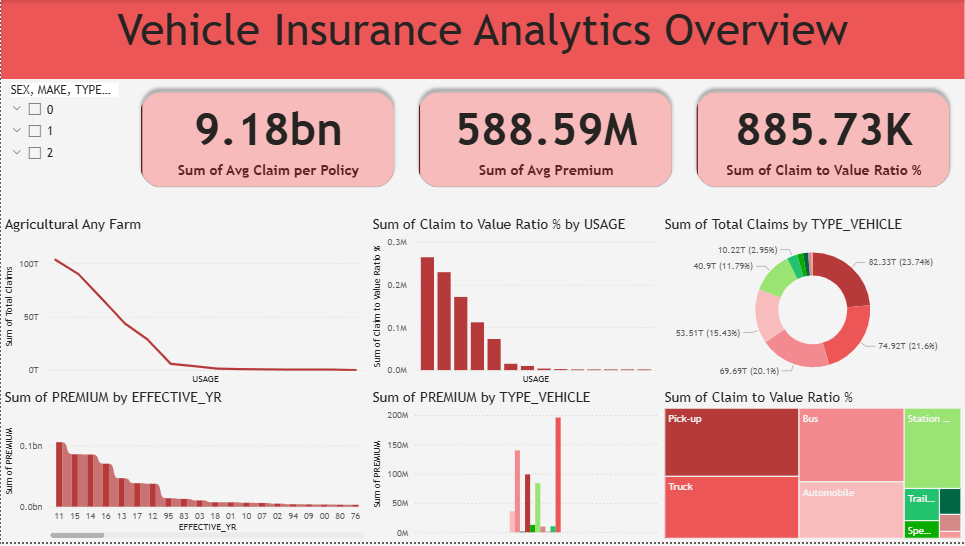

The dashboard page shown, as its layout file describes it:
{"tool":"powerbi","page":{"name":"Page 1","canvas":[1280,720],"ordinal":0},"visuals":[{"type":"textbox","box":[0,0,1280.2,104.6],"z":0},{"type":"lineChart","fields":{"Y":["Sum(motor_data14-2018.Total Claims)"],"Category":["motor_data14-2018.USAGE"]},"box":[0,285.3,488.5,230],"z":5000},{"type":"donutChart","fields":{"Y":["Sum(motor_data14-2018.Total Claims)"],"Category":["motor_data14-2018.TYPE_VEHICLE"]},"box":[876.8,285.3,403.3,230],"z":6000},{"type":"columnChart","fields":{"Category":["motor_data14-2018.USAGE"],"Y":["Sum(motor_data14-2018.Claim to Value Ratio %)"]},"box":[488.5,285.3,388.4,230],"z":7000},{"type":"clusteredColumnChart","fields":{"Y":["Sum(motor_data14-2018.PREMIUM)"],"Series":["motor_data14-2018.TYPE_VEHICLE"]},"box":[488.5,515.4,388.4,204.6],"z":8000},{"type":"treemap","title":"Sum of Claim to Value Ratio %","fields":{"Group":["motor_data14-2018.TYPE_VEHICLE"],"Values":["Sum(motor_data14-2018.Claim to Value Ratio %)"]},"box":[876.8,515.4,403.3,204.6],"z":9000},{"type":"ribbonChart","fields":{"Category":["motor_data14-2018.EFFECTIVE_YR"],"Y":["Sum(motor_data14-2018.PREMIUM)"]},"box":[0,515.4,488.5,204.6],"z":11000},{"type":"cardVisual","fields":{"Data":["Sum(motor_data14-2018.Avg Claim per Policy)","Sum(motor_data14-2018.Avg Premium)","Sum(motor_data14-2018.Claim to Value Ratio %)"]},"box":[168.8,104.6,1111.4,161.3],"z":12001},{"type":"slicer","fields":{"Values":["motor_data14-2018.SEX","motor_data14-2018.MAKE","motor_data14-2018.TYPE_VEHICLE"]},"box":[0,104.6,168.8,161.3],"z":12002}]}

Visuals, with their boxes in screenshot pixels (x1, y1, x2, y2), scaled from the page's 1280x720 canvas onto the 965x546 screenshot:
textbox: BBox(0, 0, 964, 79)
lineChart - Sum(motor_data14-2018.Total Claims) x motor_data14-2018.USAGE: BBox(0, 216, 368, 391)
donutChart - Sum(motor_data14-2018.Total Claims) x motor_data14-2018.TYPE_VEHICLE: BBox(661, 216, 964, 391)
columnChart - motor_data14-2018.USAGE x Sum(motor_data14-2018.Claim to Value Ratio %): BBox(368, 216, 661, 391)
clusteredColumnChart - Sum(motor_data14-2018.PREMIUM) x motor_data14-2018.TYPE_VEHICLE: BBox(368, 391, 661, 545)
"Sum of Claim to Value Ratio %" treemap: BBox(661, 391, 964, 545)
ribbonChart - motor_data14-2018.EFFECTIVE_YR x Sum(motor_data14-2018.PREMIUM): BBox(0, 391, 368, 545)
cardVisual - Sum(motor_data14-2018.Avg Claim per Policy) x Sum(motor_data14-2018.Avg Premium): BBox(127, 79, 964, 202)
slicer - motor_data14-2018.SEX x motor_data14-2018.MAKE: BBox(0, 79, 127, 202)
